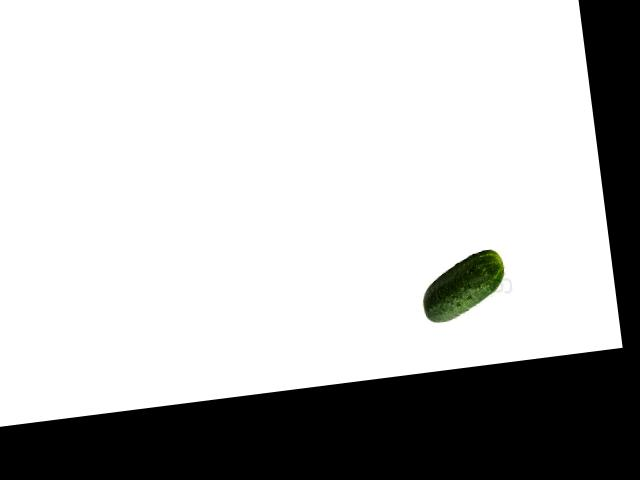cucumber: (417, 248, 509, 324)
